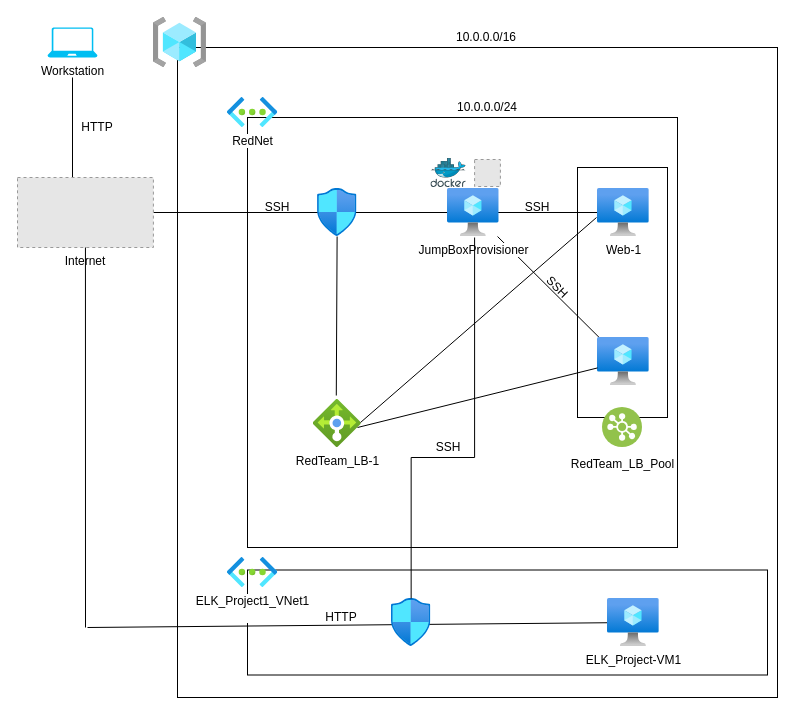
Some shapes in this 795 by 715 pixel diagram are drawn without their labels. Grey dashed boxes stand in for pictures. Here are the shapes that lost their labels. From the top down, the box of each, then its label:
(153, 17, 206, 67): Azure_RG
(317, 188, 356, 236): RedTeam_NSG_2
(597, 337, 649, 385): Web-2
(391, 598, 430, 646): ELK_Project-VM1-nsg
